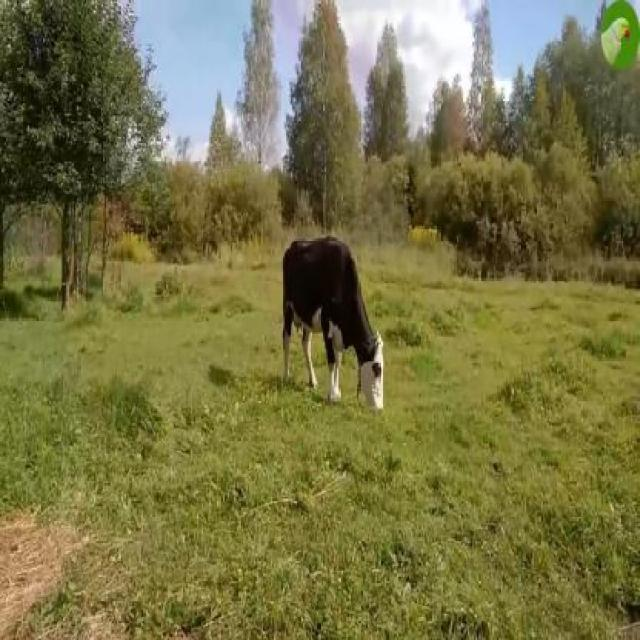Cow: (282, 240, 384, 414)
